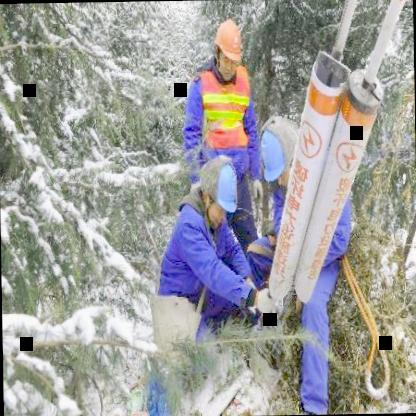helmet: (258, 114, 312, 187), (200, 154, 238, 226), (210, 16, 244, 78)
